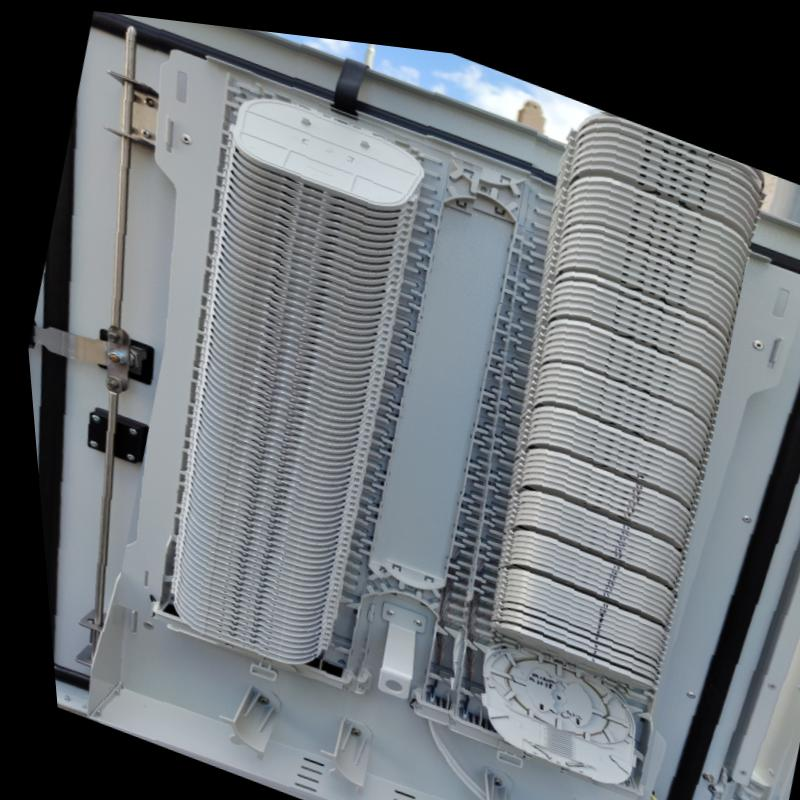NT-Gehause: (22, 9, 800, 800)
Spleiskassetten: (432, 96, 760, 783), (138, 60, 440, 687)
